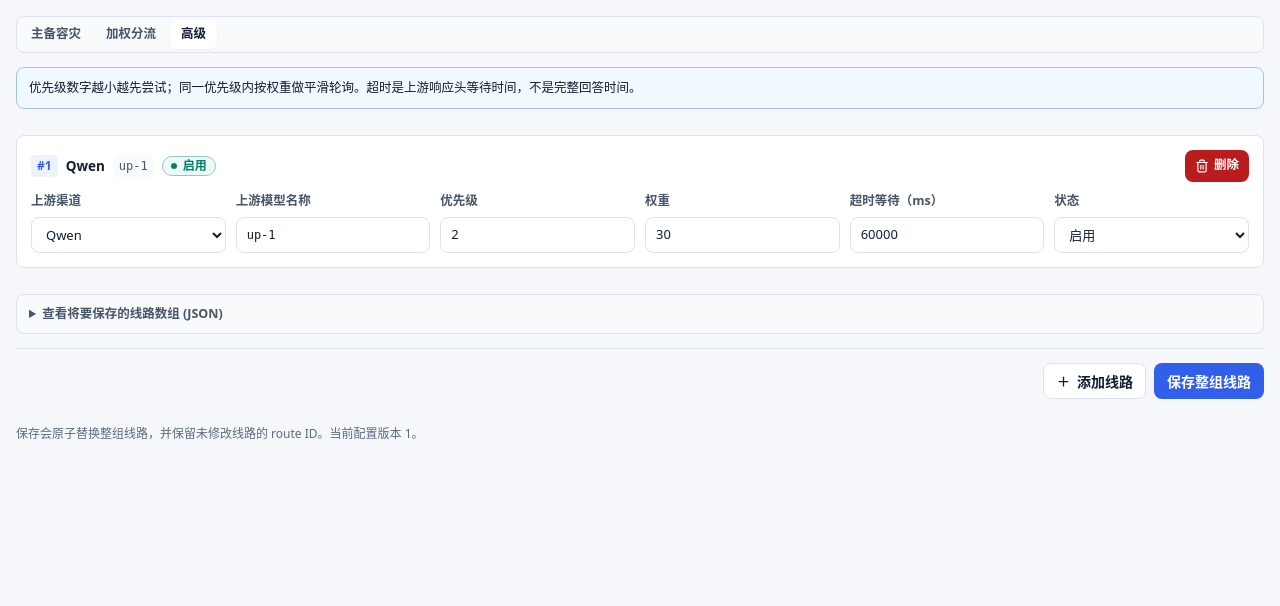
RouteEditor mode preview › shows an exact diff and does not write when switching to primary/backup
Expected: the field showing "up-1" is shown, [236, 216, 430, 252]
Click the button "主备容灾" at (56, 34), box [20, 20, 92, 49]
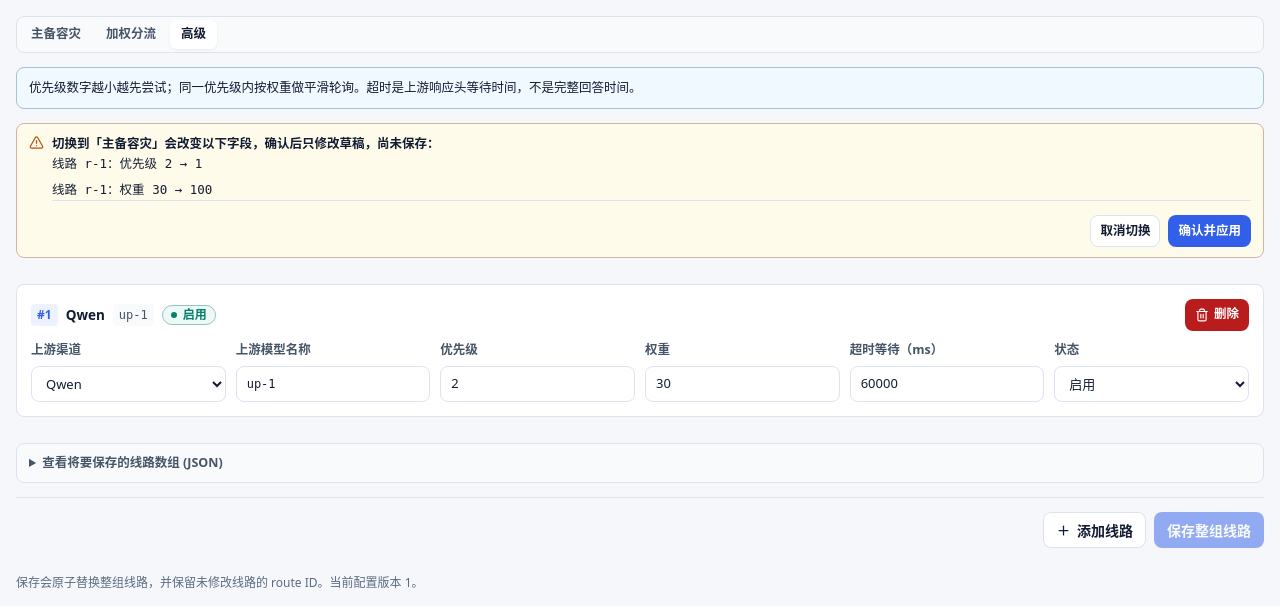
Now the text "切换到「主备容灾」会改变以下字段，确认后只修改草稿，尚未保存：" is shown, box [52, 135, 440, 152]
Now the text "线路 r-1：优先级 2 → 1" is shown, box [52, 154, 202, 174]
Now the text "线路 r-1：权重 30 → 100" is shown, box [52, 180, 212, 200]
